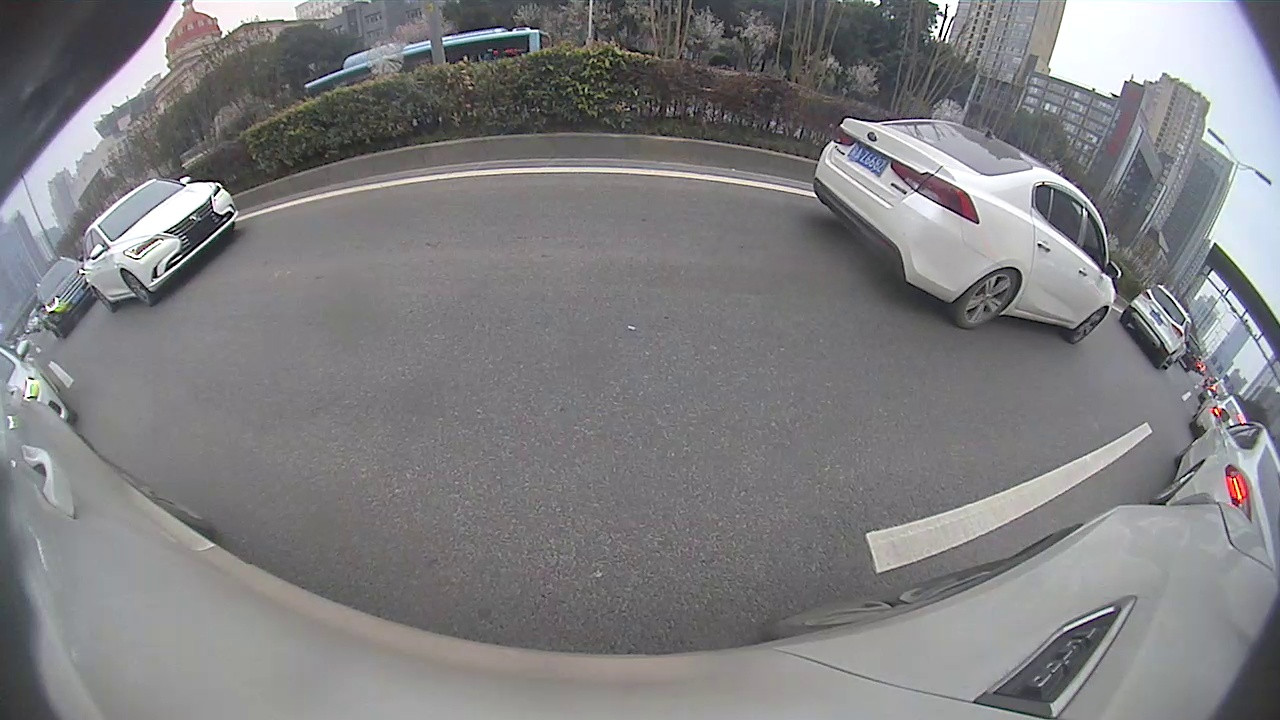car: (812, 114, 1123, 345), (79, 174, 238, 312), (1152, 406, 1279, 547), (1120, 280, 1191, 370)
front: (1069, 306, 1108, 345), (121, 268, 154, 308)
rear: (953, 265, 1022, 330), (92, 287, 115, 312)
